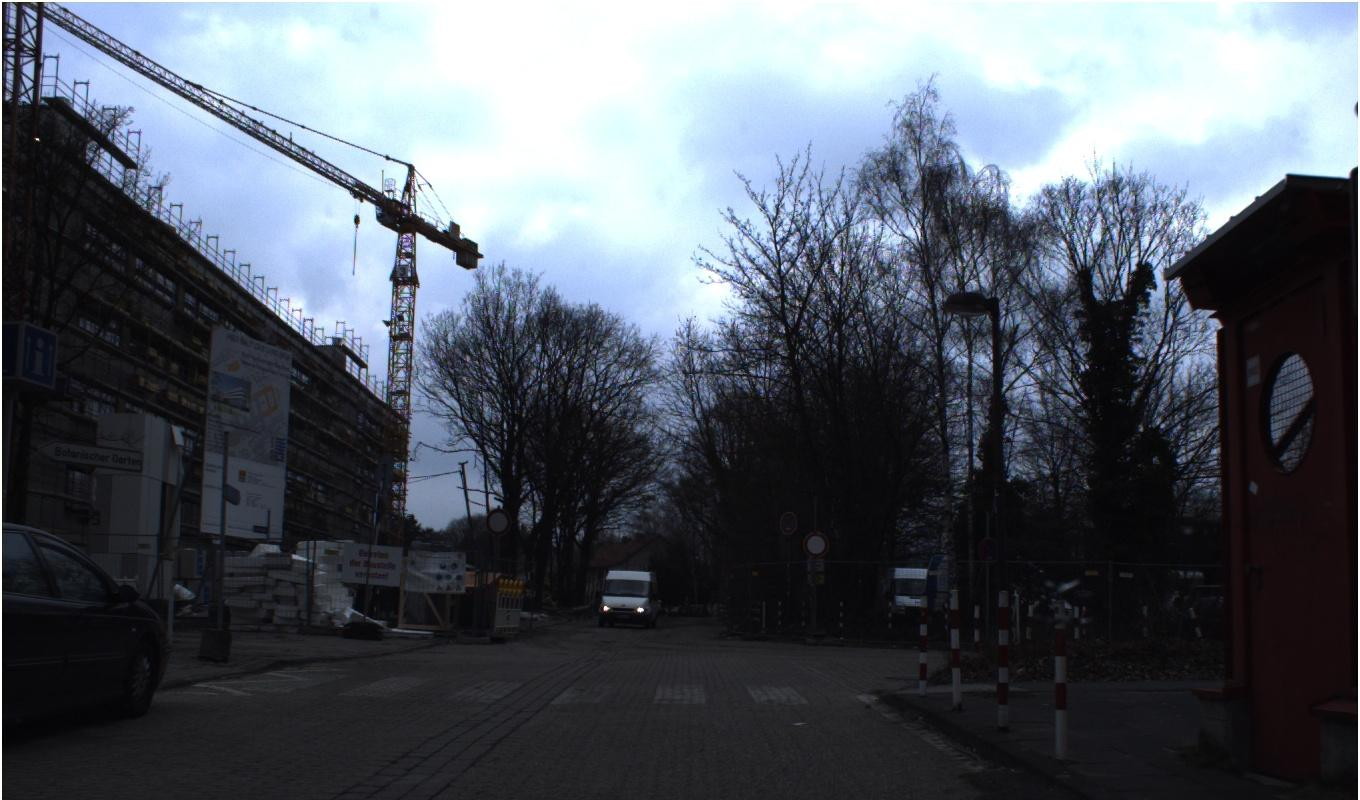no traffic both ways: (483, 507, 829, 558)
